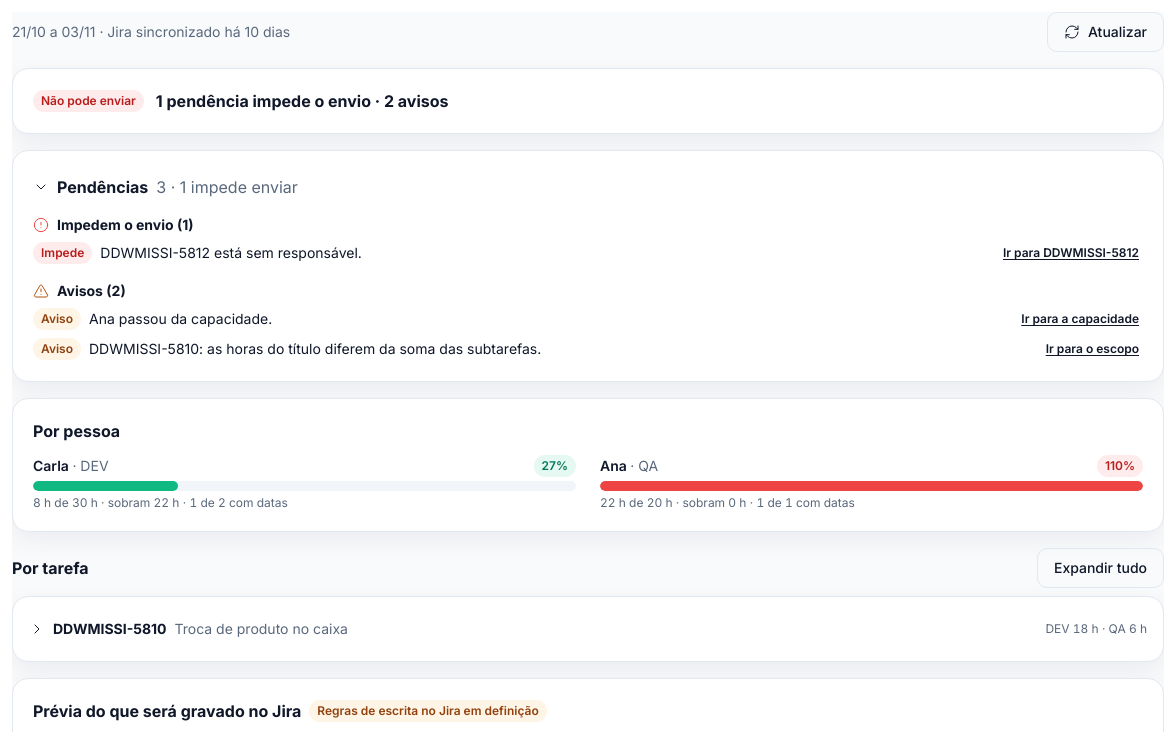
it: Revisão: resumo › por tarefa: expande e mostra responsável e datas; sem dono fica explícito
Click the button "DDWMISSI-5810 Troca de produto no caixa DEV 18 h · QA 6 h". click: [110, 628]
box: x1=29 y1=613 x2=1147 y2=645
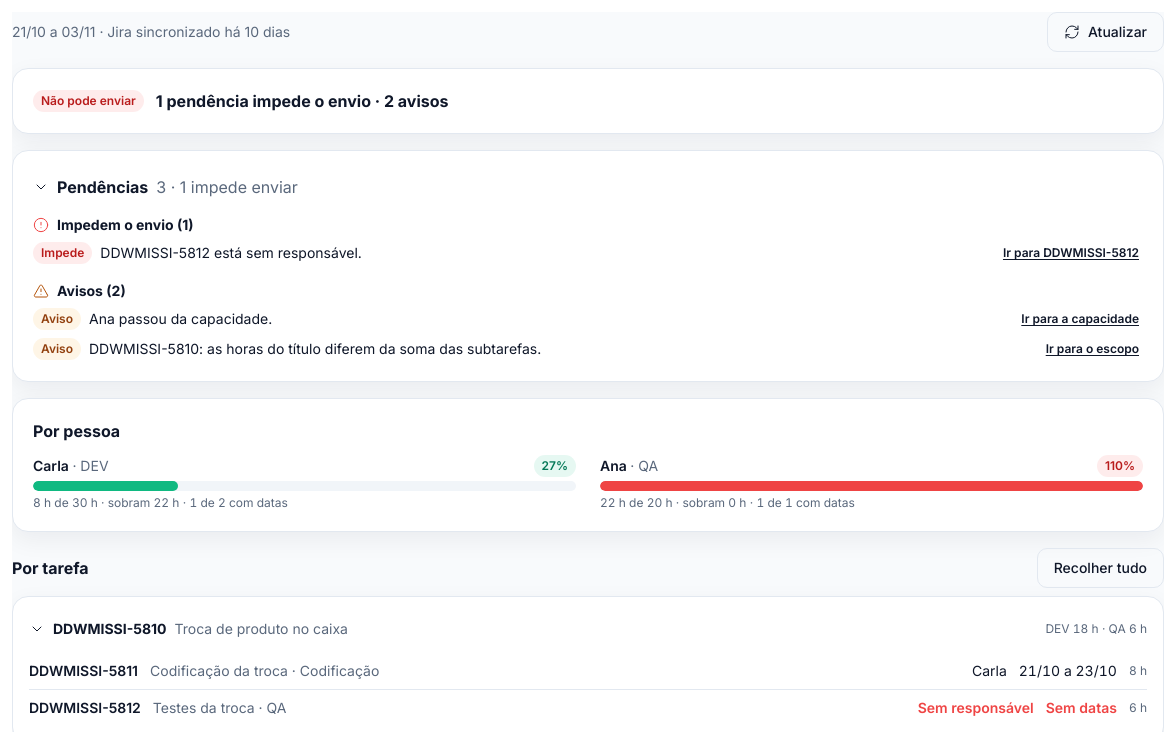
expect the list item with test id "rev-sub-DDWMISSI-5811" shows "Carla": met, box x1=972 y1=662 x2=1007 y2=679
expect the list item with test id "rev-sub-DDWMISSI-5811" shows "21/10 a 23/10": met, box x1=1019 y1=662 x2=1117 y2=679
expect the list item with test id "rev-sub-DDWMISSI-5812" shows "Sem responsável": met, box x1=918 y1=699 x2=1034 y2=716
Click the button "Recolher tudo". click: [1100, 568]
box: x1=1037 y1=548 x2=1164 y2=588
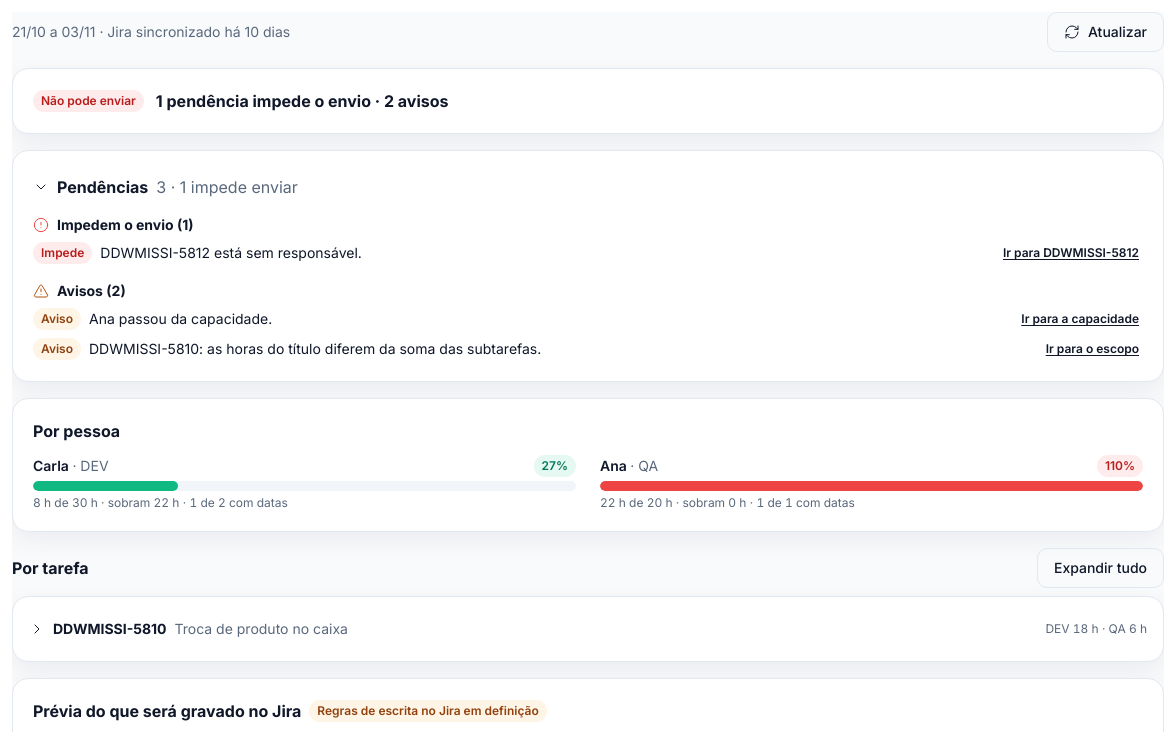
expect the list item with test id "rev-sub-DDWMISSI-5811" is gone: met
